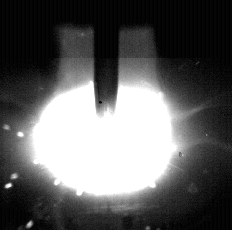arame: (95, 0, 120, 117)
poca: (33, 0, 173, 230)
